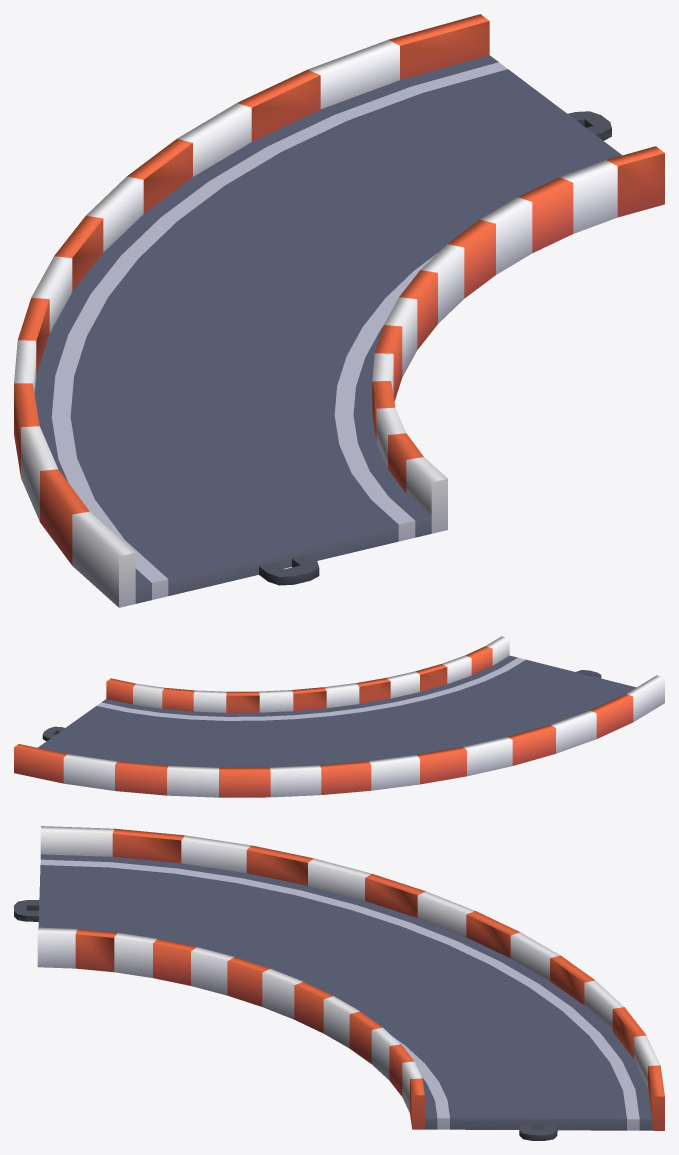
Rendered from track-road-wide-corner-large.009_lev2.glb.
The picture shows the model from 3 angles, top to bottom: view 1: azimuth 30°, elevation 25°; view 2: azimuth 150°, elevation 25°; view 3: azimuth 270°, elevation 25°; orthographic projection. The views are drawn at different scales.
Visible parts, largest first — view 1: track-road-wide-corner-large.009_lev2; view 2: track-road-wide-corner-large.009_lev2; view 3: track-road-wide-corner-large.009_lev2.
Boxes of the visible parts, left/top/right/bottom form: track-road-wide-corner-large.009_lev2: left=14, top=14, right=664, bottom=607; track-road-wide-corner-large.009_lev2: left=14, top=636, right=664, bottom=797; track-road-wide-corner-large.009_lev2: left=14, top=826, right=664, bottom=1140.
Size of the model in its own units: 5.25 by 0.3 by 5.15.
1 material, 1 textured.
